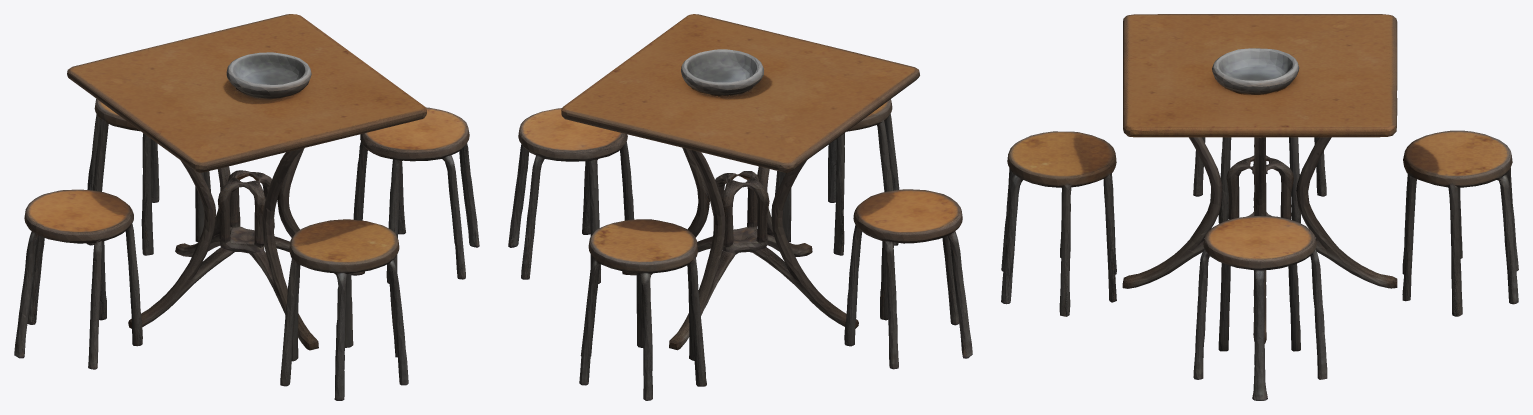
3 views of the same model, side by side, from view 1: azimuth 30°, elevation 25°; view 2: azimuth 150°, elevation 25°; view 3: azimuth 270°, elevation 25° (orthographic).
Parts seen in each view (by area): view 1: world.001; view 2: world.001; view 3: world.001.
Boxes of the visible parts, bbox=[...] form: world.001: bbox=[14, 14, 479, 400]; world.001: bbox=[508, 14, 972, 400]; world.001: bbox=[1001, 14, 1518, 400].
Bounding box in the file's own units: 100 × 47.31 × 95.37.
1 material, 1 textured.
